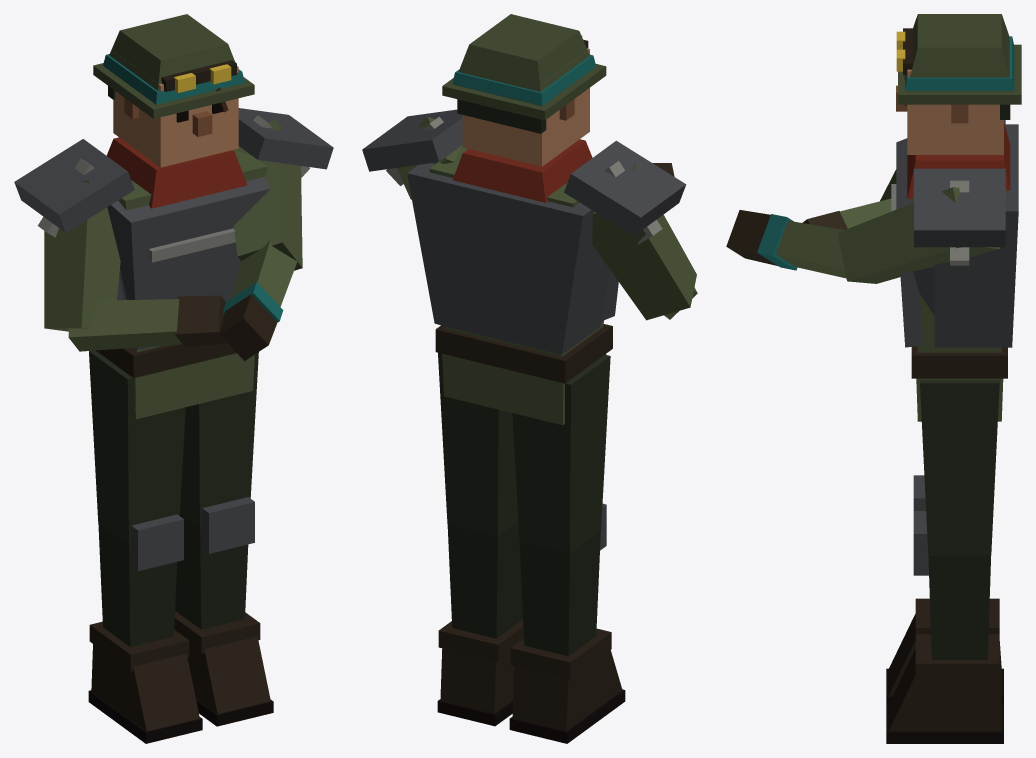
File: veteran.glb
3 views of the same model, side by side, from view 1: azimuth 30°, elevation 25°; view 2: azimuth 150°, elevation 25°; view 3: azimuth 270°, elevation 25° (orthographic). The views are drawn at different scales.
Parts seen in each view (by area): view 1: torso, leg_r_lower, head, leg_l_lower, leg_r, leg_l, arm_r, arm_r_lower, pauldron_r, arm_l_lower, arm_l, pauldron_l; view 2: torso, leg_r_lower, head, leg_l_lower, leg_r, leg_l, pauldron_r, arm_r, pauldron_l; view 3: torso, leg_l_lower, head, leg_l, pauldron_l, arm_l, arm_l_lower, leg_r_lower, arm_r_lower.
Part boxes in pixels (box(x1,y1,x2,y2)): torso: box(96, 137, 270, 419); leg_r_lower: box(88, 514, 202, 743); head: box(93, 14, 254, 167); leg_l_lower: box(174, 497, 273, 726); leg_r: box(89, 350, 185, 545); leg_l: box(180, 352, 258, 528); arm_r: box(44, 180, 120, 331); arm_r_lower: box(68, 295, 227, 351); pauldron_r: box(14, 139, 134, 237); arm_l_lower: box(219, 240, 296, 360); arm_l: box(233, 120, 302, 270); pauldron_l: box(238, 108, 333, 177); torso: box(407, 139, 618, 425); leg_r_lower: box(509, 503, 625, 743); head: box(442, 14, 606, 166); leg_l_lower: box(437, 521, 523, 726); leg_r: box(512, 354, 610, 553); leg_l: box(438, 352, 518, 536); pauldron_r: box(564, 140, 686, 244); arm_r: box(592, 164, 696, 320); pauldron_l: box(362, 109, 462, 185); torso: box(891, 123, 1018, 421); leg_l_lower: box(886, 511, 1003, 743); head: box(896, 14, 1021, 154); leg_l: box(920, 380, 999, 555); pauldron_l: box(914, 168, 1005, 265); arm_l: box(837, 187, 999, 283); arm_l_lower: box(726, 210, 846, 278); leg_r_lower: box(886, 475, 1003, 704); arm_r_lower: box(802, 198, 891, 229).
Bounding box in the file's own units: 0.8005 × 1.79 × 0.7037.
